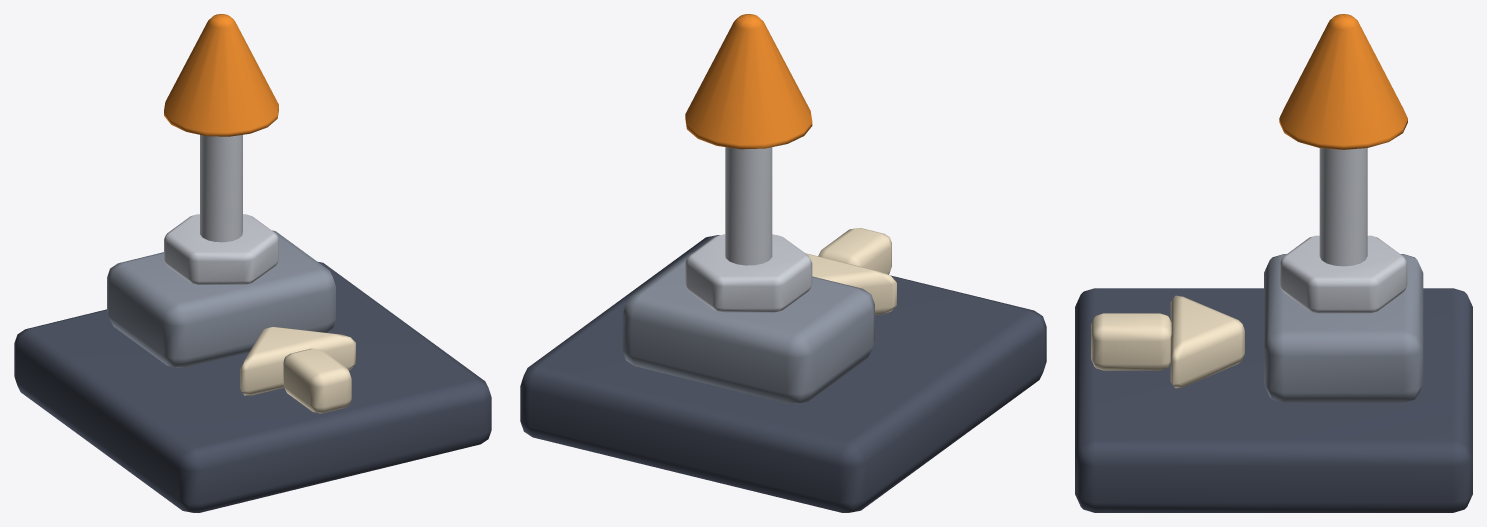
File: Ctrl_Toggle_Nav.glb
3 views of the same model, side by side, from view 1: azimuth 30°, elevation 25°; view 2: azimuth 150°, elevation 25°; view 3: azimuth 270°, elevation 25° (orthographic). The views are drawn at different scales.
Visible parts, largest first — view 1: Ctrl_Toggle_Nav.Base, Ctrl_Toggle_Nav.Housing, Ctrl_Toggle_Nav.Move_Lever, Ctrl_Toggle_Nav.Icon, Ctrl_Toggle_Nav.Nut; view 2: Ctrl_Toggle_Nav.Base, Ctrl_Toggle_Nav.Housing, Ctrl_Toggle_Nav.Move_Lever, Ctrl_Toggle_Nav.Nut, Ctrl_Toggle_Nav.Icon; view 3: Ctrl_Toggle_Nav.Base, Ctrl_Toggle_Nav.Move_Lever, Ctrl_Toggle_Nav.Housing, Ctrl_Toggle_Nav.Icon, Ctrl_Toggle_Nav.Nut.
Part boxes in pixels (box(x1,y1,x2,y2)): Ctrl_Toggle_Nav.Base: box(14, 262, 491, 512); Ctrl_Toggle_Nav.Housing: box(107, 230, 335, 367); Ctrl_Toggle_Nav.Move_Lever: box(164, 14, 278, 242); Ctrl_Toggle_Nav.Icon: box(240, 327, 355, 413); Ctrl_Toggle_Nav.Nut: box(164, 214, 278, 284); Ctrl_Toggle_Nav.Base: box(520, 235, 1046, 512); Ctrl_Toggle_Nav.Housing: box(622, 252, 874, 403); Ctrl_Toggle_Nav.Move_Lever: box(685, 14, 812, 265); Ctrl_Toggle_Nav.Nut: box(685, 234, 812, 312); Ctrl_Toggle_Nav.Icon: box(805, 228, 896, 315); Ctrl_Toggle_Nav.Base: box(1075, 288, 1472, 512); Ctrl_Toggle_Nav.Move_Lever: box(1279, 14, 1407, 266); Ctrl_Toggle_Nav.Housing: box(1264, 254, 1423, 402); Ctrl_Toggle_Nav.Icon: box(1091, 295, 1244, 388); Ctrl_Toggle_Nav.Nut: box(1280, 235, 1407, 313).
Bounding box in the file's own units: 0.2 × 0.233 × 0.2.
Materials: 1 (1 with a texture image).
